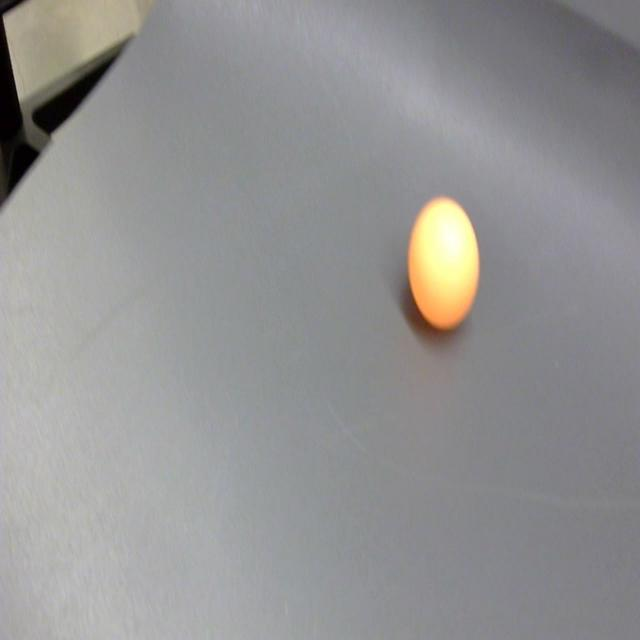ball: (404, 194, 482, 334)
